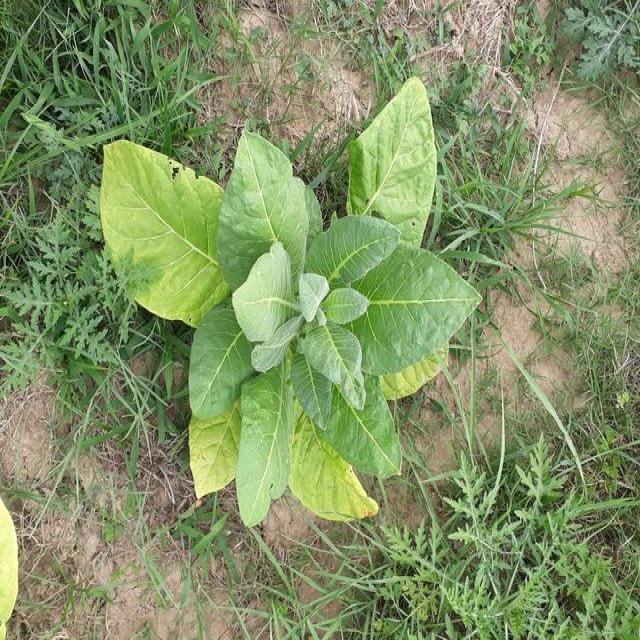crop: (102, 132, 447, 520)
